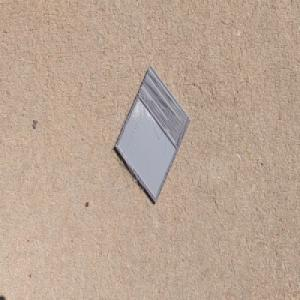PlasticPart: (114, 64, 191, 205)
